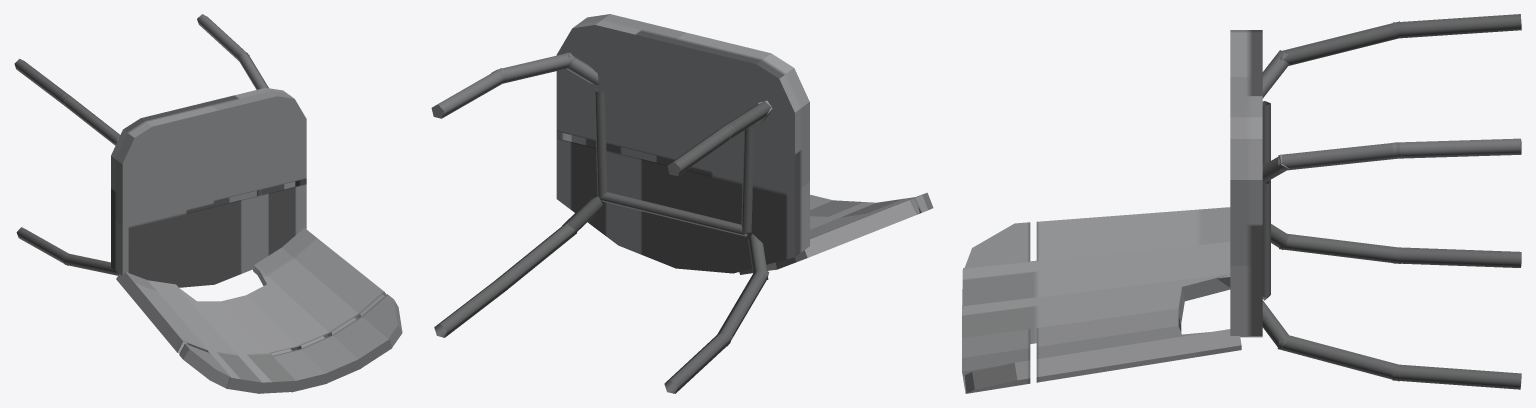
The picture shows the model from 3 angles, left to right: view 1: azimuth 30°, elevation 25°; view 2: azimuth 150°, elevation 25°; view 3: azimuth 270°, elevation 25°; orthographic projection. The views are drawn at different scales.
Bounding box in the file's own units: 0.4841 × 0.4447 × 0.7793.
